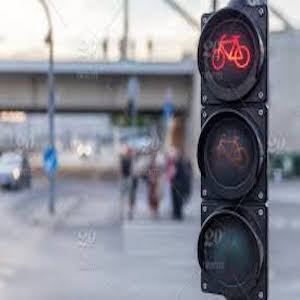red: (211, 29, 259, 82)
